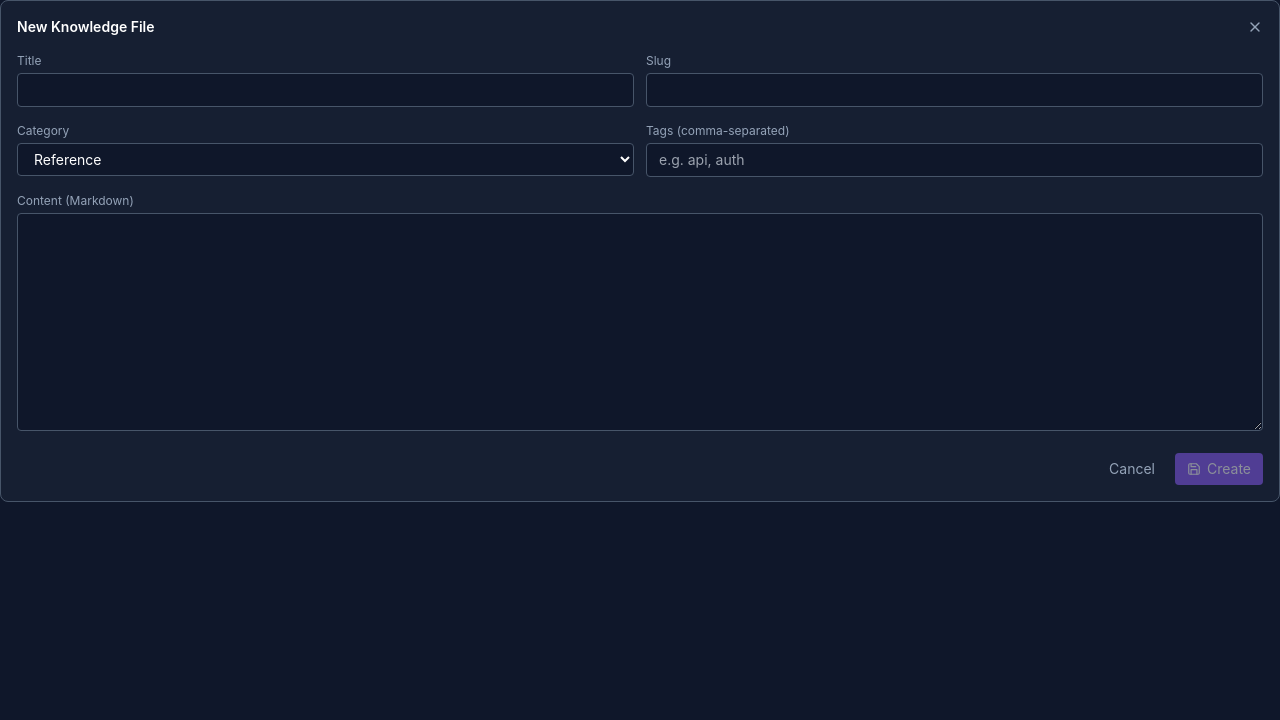
KnowledgeFileForm › slug auto-generation › lowercases the slug
Type "UPPERCASE TITLE" into the field labelled "Title" at (326, 90), box [17,73,634,107]
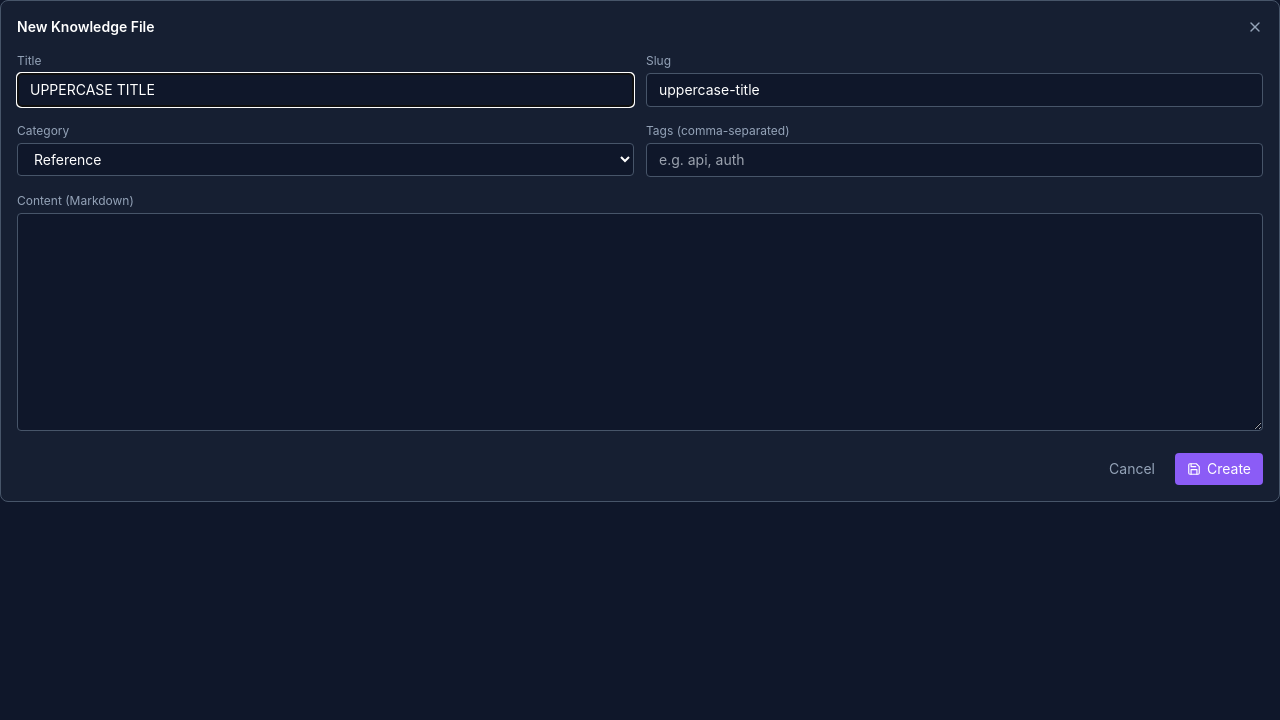
Check: the field labelled "Slug" holds "uppercase-title", box [646,73,1263,107]
